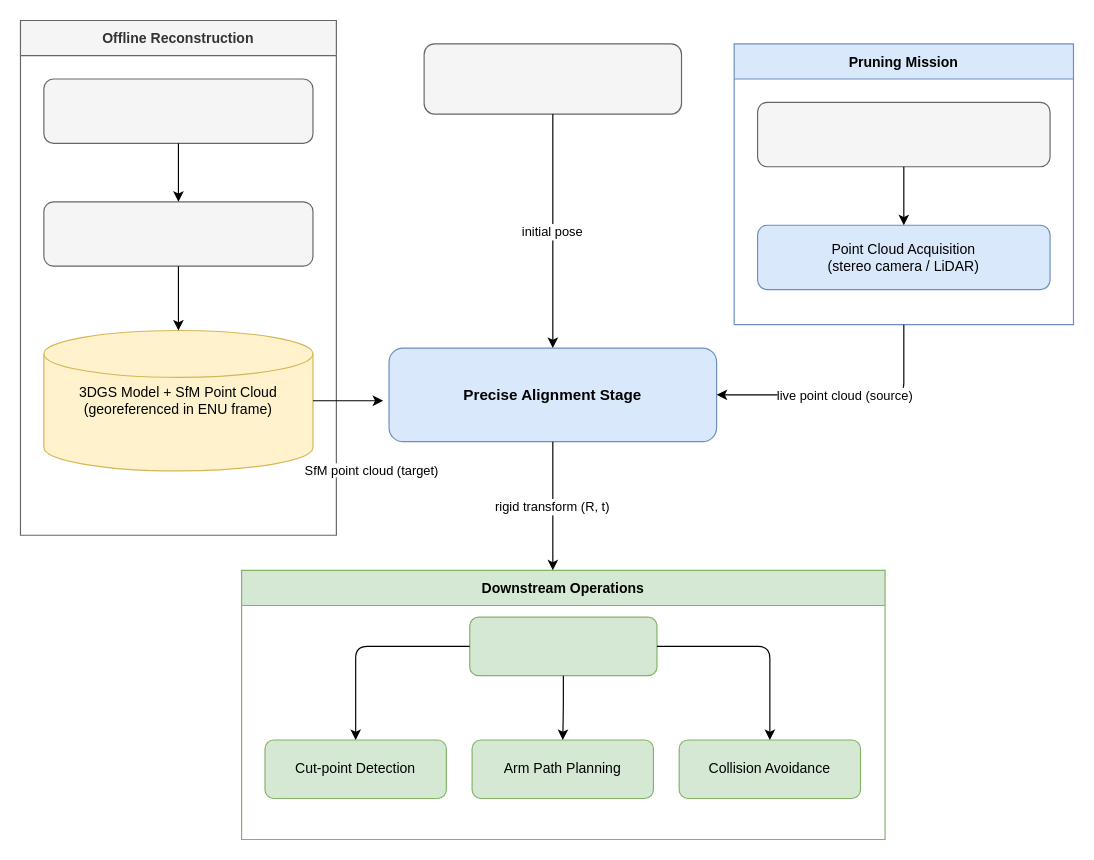
The diagram is 1094 pixels wide and 860 high, and some of its shapes have lost their labels. Each missing label, with the centre of its shape:
3D Gaussian Splatting Pipeline: pixel 178 233
Physical Vine: pixel 903 134
SLAM System: pixel 552 78
Survey Pass: pixel 178 110
Updated Robot Pose: pixel 563 646
